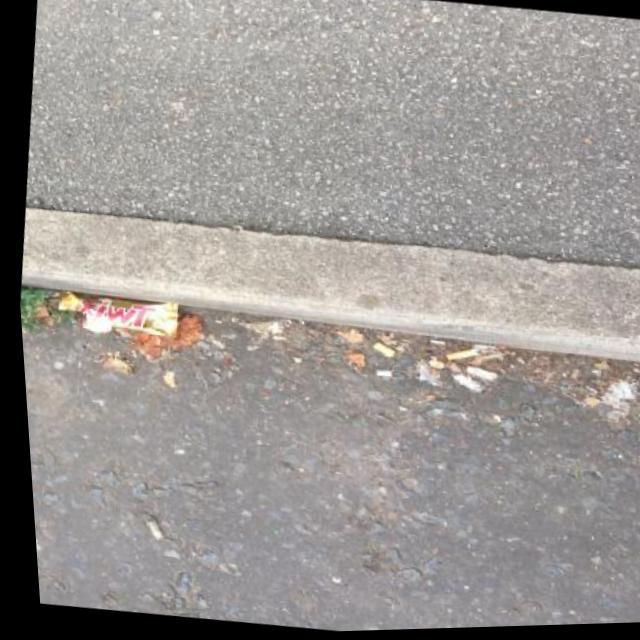plastic: (52, 284, 181, 343)
